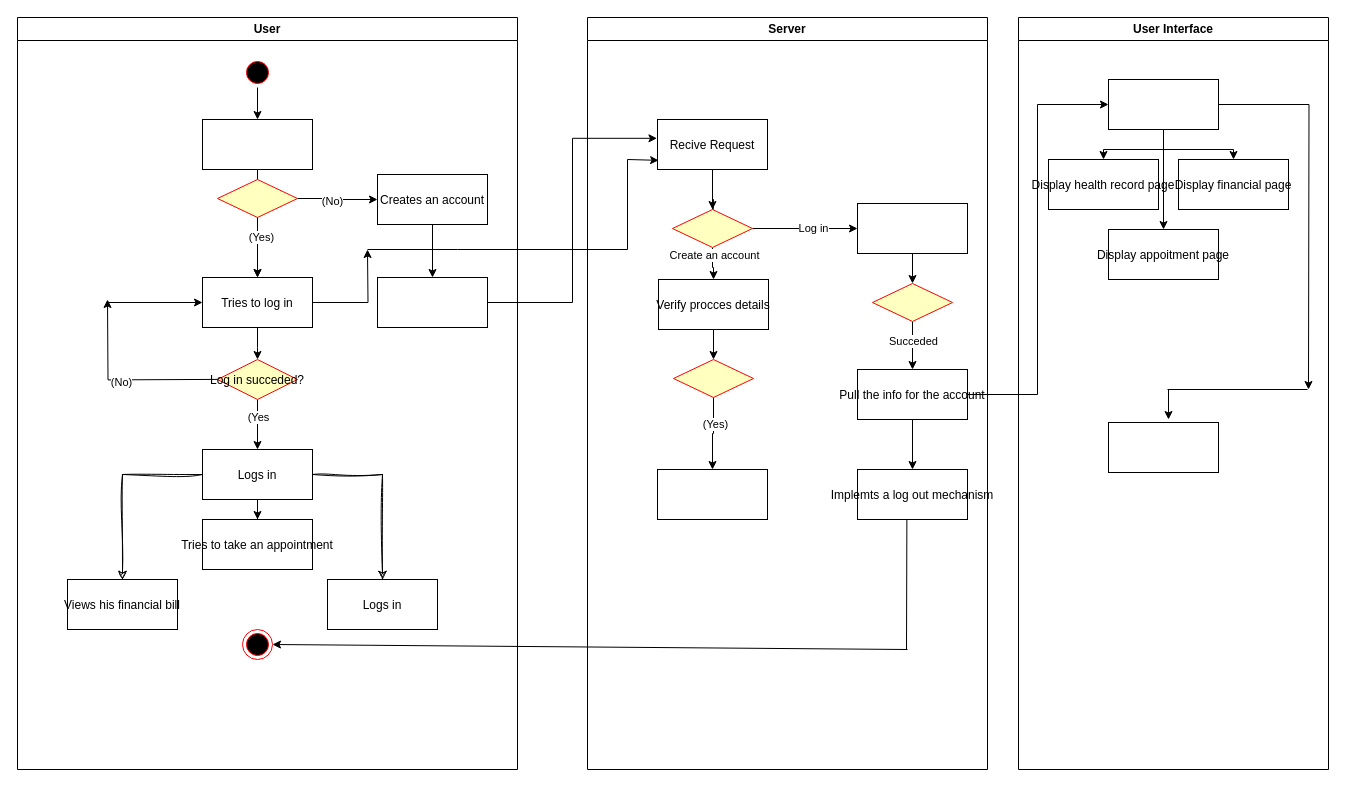
Some shapes in this 1346 by 787 pixel diagram are drawn without their labels. Here are the shapes that lost their labels. From the top down, the centre of each, then its label:
pixel 1163 104: Display the main page
pixel 257 144: Enters the website
pixel 257 198: Has an account?
pixel 712 228: Identify request
pixel 912 228: Verify credentials
pixel 432 302: Writes their credentials
pixel 713 378: Verification succeded?
pixel 1163 447: Display the logout button
pixel 712 494: Save the account details
